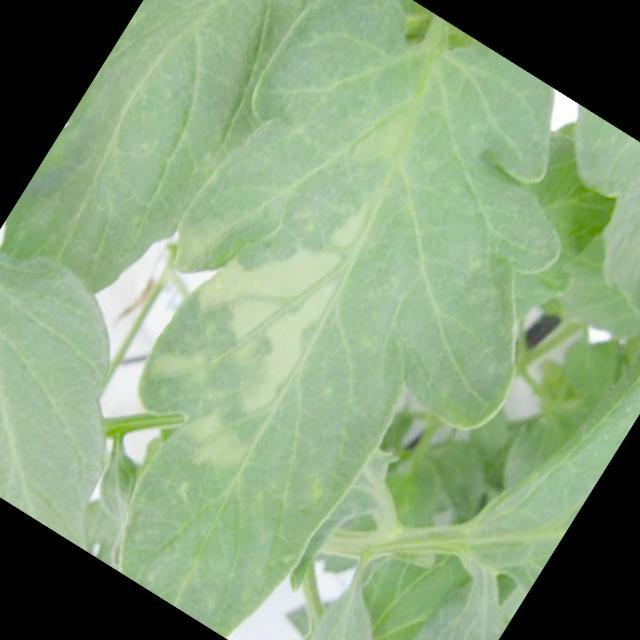Tomato bacterial spot leaf: (0, 0, 640, 640)
Tomato healthy leaf: (0, 0, 379, 348), (284, 577, 408, 640)
